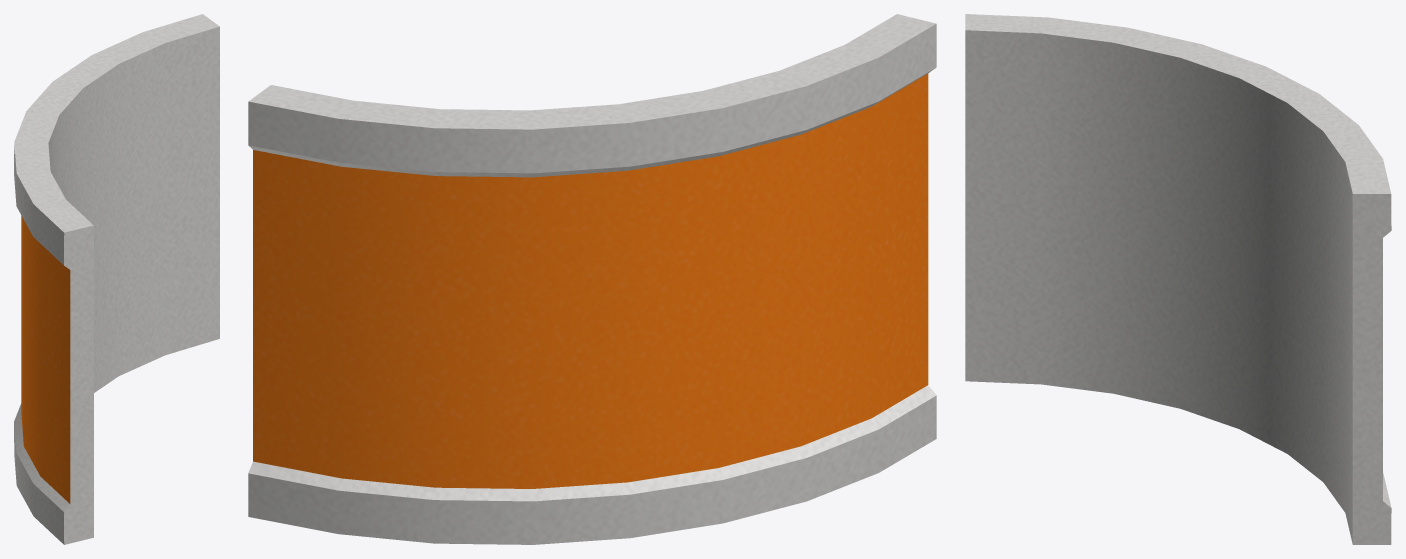
The model's file is Wall_3_Rounded_LOD0.fbx.
The picture shows the model from 3 angles, left to right: view 1: azimuth 30°, elevation 25°; view 2: azimuth 150°, elevation 25°; view 3: azimuth 270°, elevation 25°; orthographic projection. The views are drawn at different scales.
Visible parts, largest first — view 1: Wall_3_Rounded_LOD0; view 2: Wall_3_Rounded_LOD0; view 3: Wall_3_Rounded_LOD0.
Boxes of the visible parts, x1,y1,x2,y2 form: Wall_3_Rounded_LOD0: (14, 14, 219, 544); Wall_3_Rounded_LOD0: (248, 14, 936, 544); Wall_3_Rounded_LOD0: (965, 14, 1391, 544).
Size of the model in its own units: 220 by 200 by 220.
